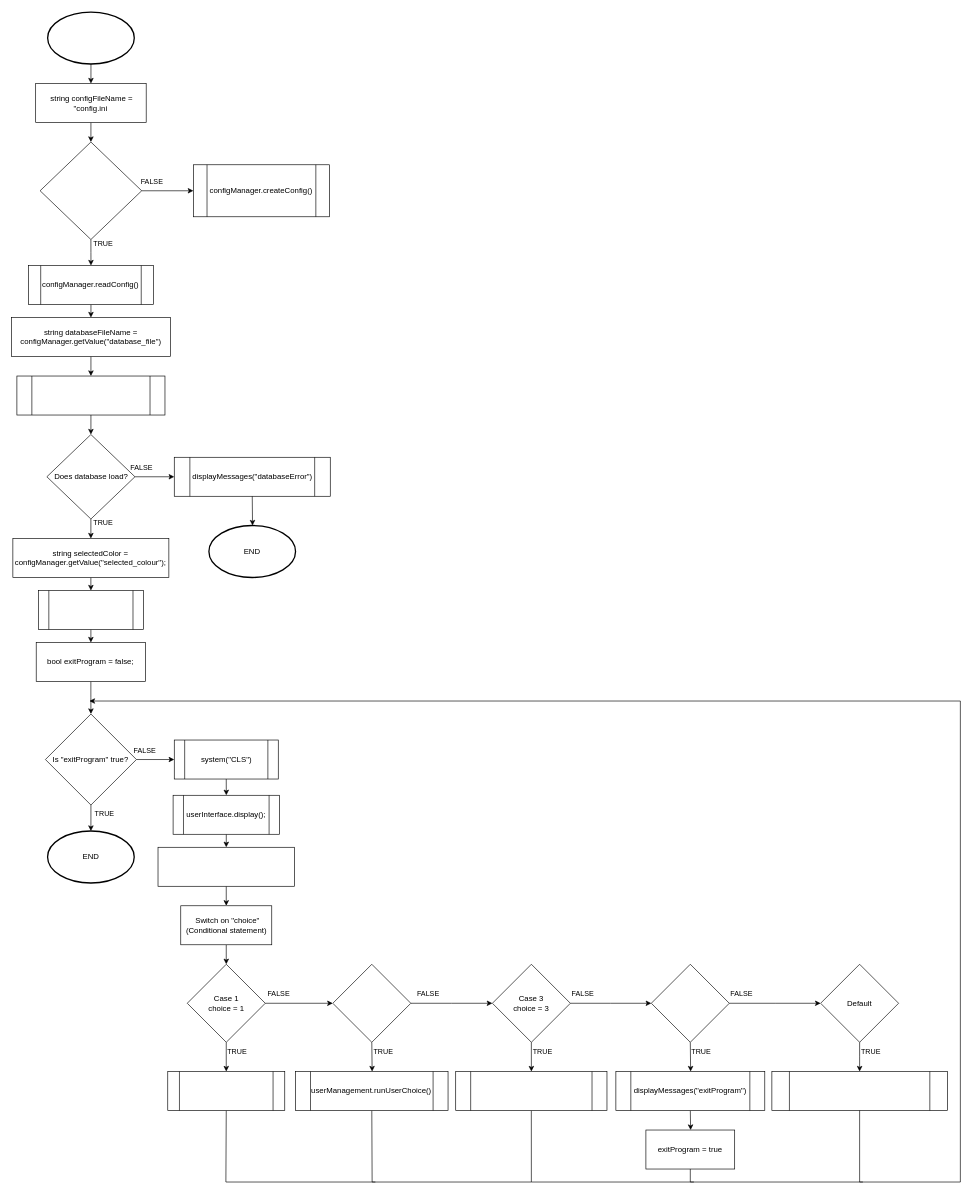
Image size: 977x1199. Some labels were removed from this diagram. Each missing label, with the centre of its shape:
Case 2 choice = 2: the point at 371,1003
Case 4 choice = 4: the point at 690,1003
checkOrCreateDatabaseFile(): the point at 90,395
displayMessages("invalidChoice"): the point at 859,1091
Does "configFileName" exist in system files?: the point at 90,190
int choice = userInterface.getUserChoice(): the point at 226,866
setConsoleColor(): the point at 90,610
START: the point at 91,37
userCreator(database): the point at 226,1091
userDisplay.runUserChoice(): the point at 531,1091
